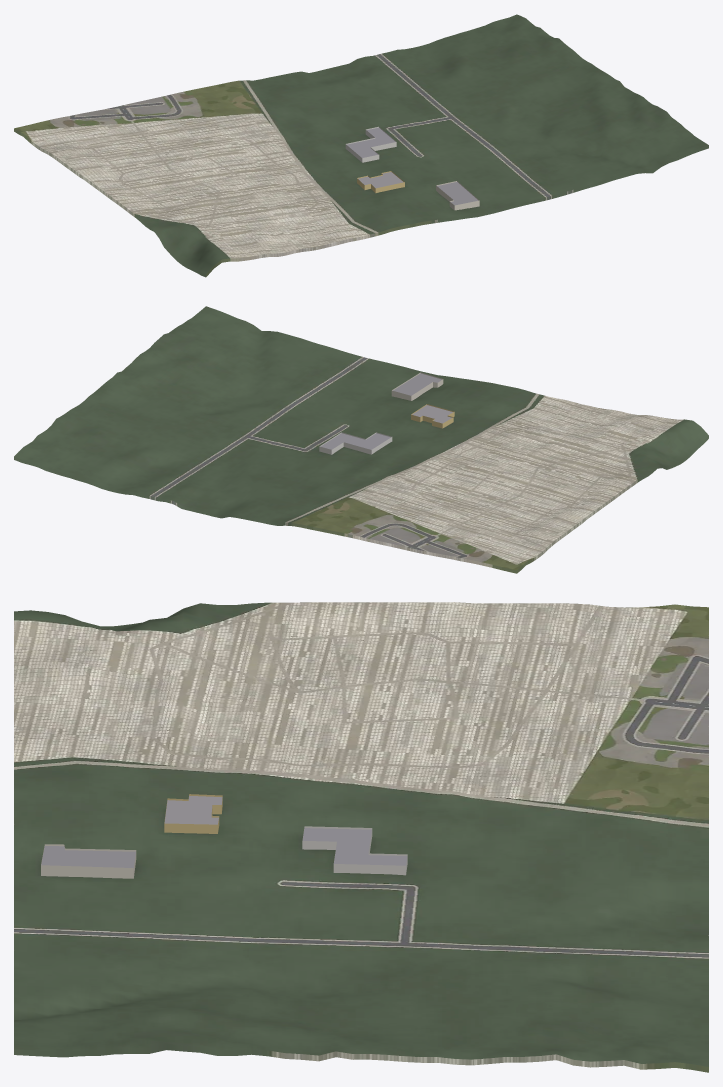
3 renders of one model, top to bottom at view 1: azimuth 30°, elevation 25°; view 2: azimuth 150°, elevation 25°; view 3: azimuth 270°, elevation 25°, orthographic. The views are drawn at different scales.
Visible parts, largest first — view 1: terrain, buildings; view 2: terrain, buildings; view 3: terrain, buildings.
Boxes of the visible parts, x1,y1,x2,y2 form: terrain: (14,14,708,277); buildings: (345,126,479,210); terrain: (14,306,708,573); buildings: (319,372,454,454); terrain: (14,602,708,1072); buildings: (41,794,407,878).
Size of the model in its own units: 500 by 24.93 by 331.
Materials: 2 (1 with a texture image).
